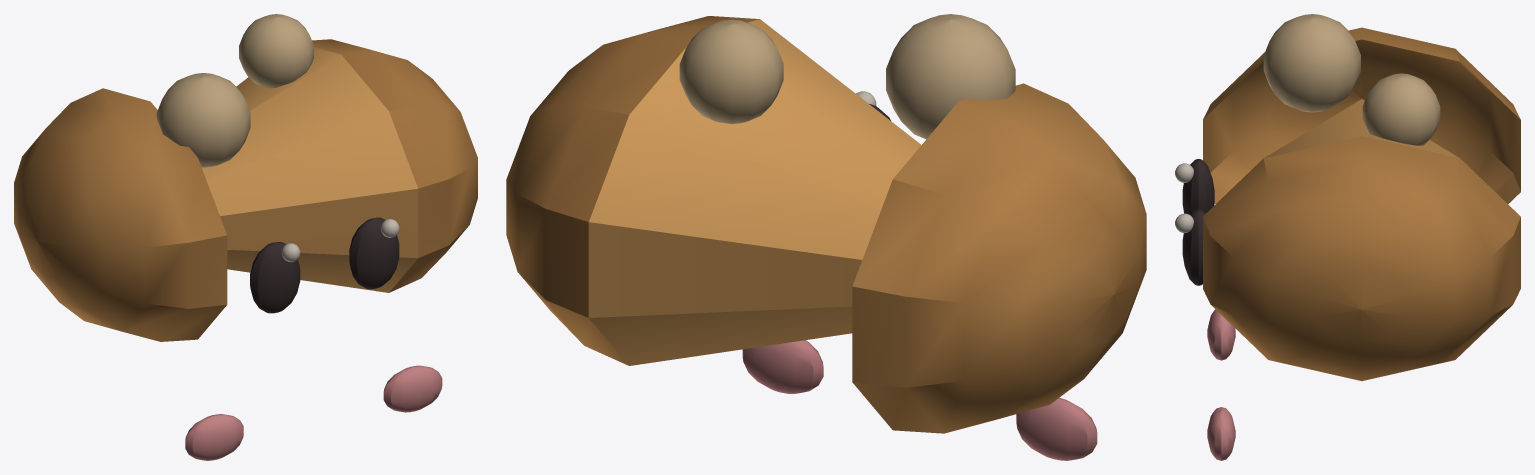
3 views of the same model, side by side, from view 1: azimuth 30°, elevation 25°; view 2: azimuth 150°, elevation 25°; view 3: azimuth 270°, elevation 25° (orthographic). The views are drawn at different scales.
Visible parts, largest first — view 1: pet_p41a1fe62; view 2: pet_p41a1fe62; view 3: pet_p41a1fe62.
Boxes of the visible parts, x1,y1,x2,y2 form: pet_p41a1fe62: (14,14,477,460); pet_p41a1fe62: (506,14,1146,460); pet_p41a1fe62: (1175,14,1520,460).
Bounding box in the file's own units: 0.504 × 0.3952 × 0.3496.
